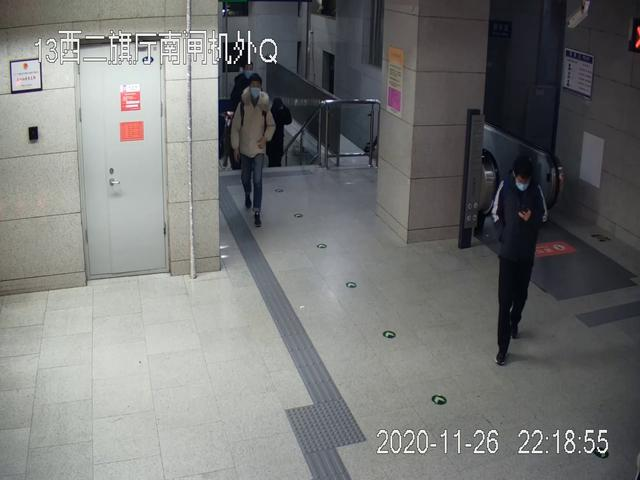person: (493, 154, 548, 365), (228, 74, 276, 228)
